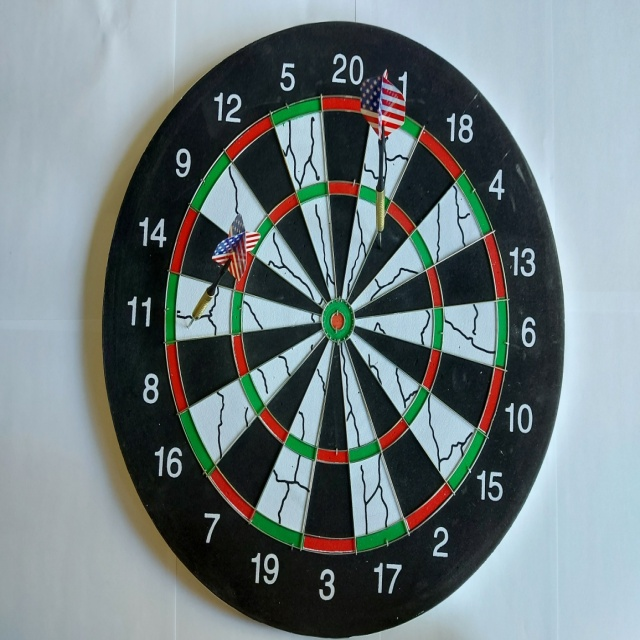Dart: (351, 66, 407, 253), (180, 210, 263, 335)
